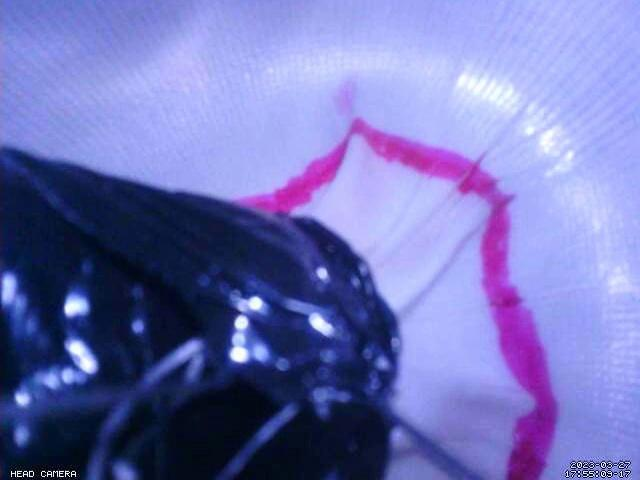red-circle: (234, 117, 560, 480)
